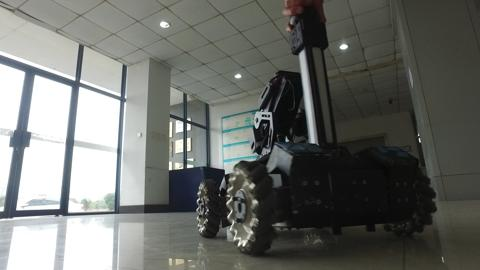chariot: (182, 17, 449, 260)
